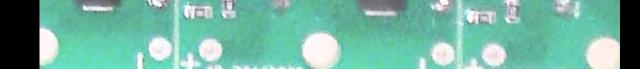chip-resistor: (182, 4, 214, 20), (465, 11, 497, 26), (503, 0, 520, 23), (219, 0, 237, 20)
